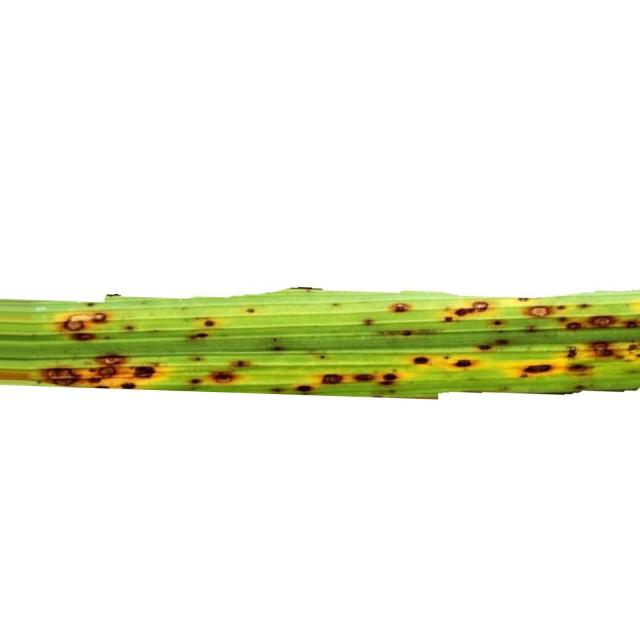Brown_Spot: (60, 312, 108, 341), (44, 368, 80, 386), (525, 305, 552, 318), (210, 371, 236, 384), (590, 315, 616, 327), (96, 355, 125, 365), (134, 366, 156, 379), (524, 364, 552, 374), (568, 364, 592, 375), (380, 372, 398, 386), (98, 366, 116, 378), (390, 302, 411, 312), (322, 374, 342, 384), (472, 301, 489, 311), (455, 308, 476, 316), (231, 360, 251, 368), (412, 356, 429, 365), (455, 359, 472, 368), (565, 321, 582, 330), (189, 332, 208, 339), (355, 374, 374, 381), (296, 385, 312, 393), (490, 320, 504, 328), (204, 319, 216, 328), (121, 382, 136, 389), (88, 376, 101, 384), (362, 318, 375, 326), (189, 378, 202, 385), (271, 345, 284, 351), (496, 339, 509, 345), (270, 388, 285, 393), (124, 325, 135, 331), (402, 330, 412, 336), (479, 345, 491, 350), (246, 308, 255, 314), (271, 338, 278, 342), (559, 318, 566, 322)
